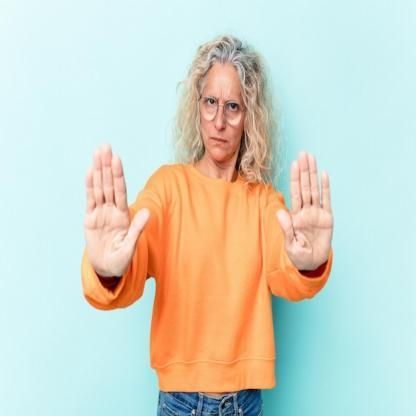stop: (81, 144, 150, 280), (278, 150, 338, 280)
